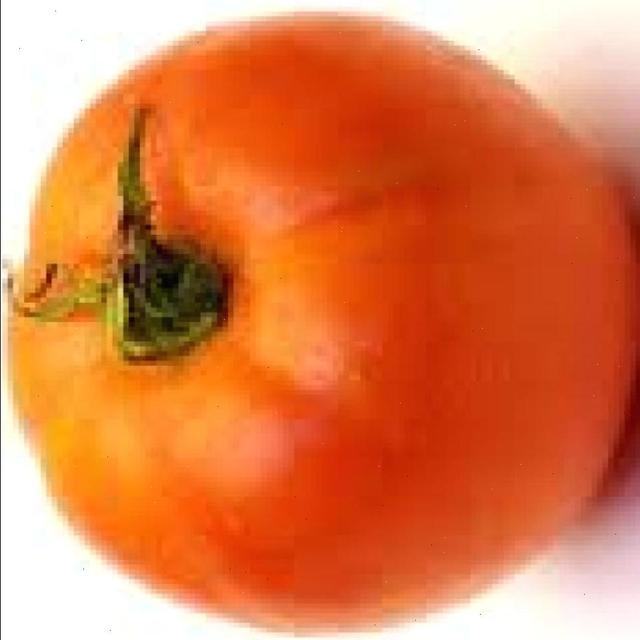Healthy Fruit: (4, 15, 427, 427)
